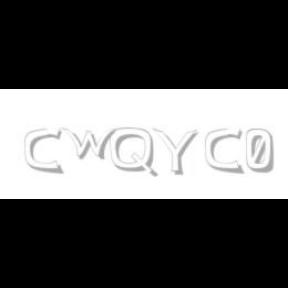0: (246, 128, 276, 174)
C: (24, 128, 62, 174), (206, 128, 242, 174)
Q: (110, 128, 156, 178)
Y: (152, 128, 198, 176)
w: (62, 128, 120, 160)
